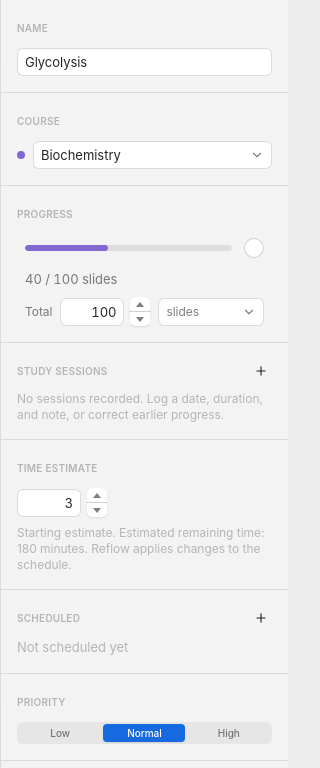
Test: Inspector › a topic › lists destination courses alphabetically
Click the dropdown named "Course for Glycolysis". click: (152, 155)
box: [33,141,272,169]
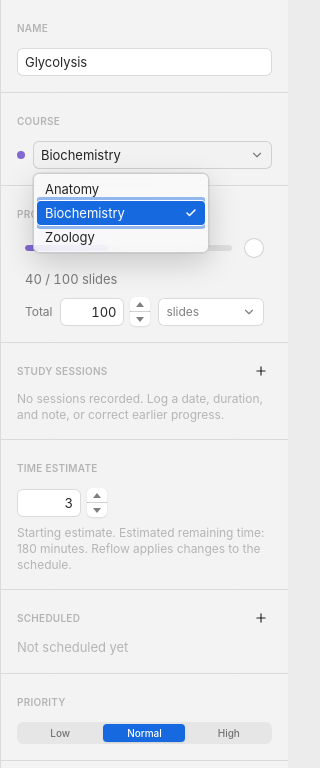
expect the options read "Anatomy", "Biochemistry", "Zoology", in this order: met, box [45,180,99,196]; [37,201,205,225]; [45,228,95,244]
